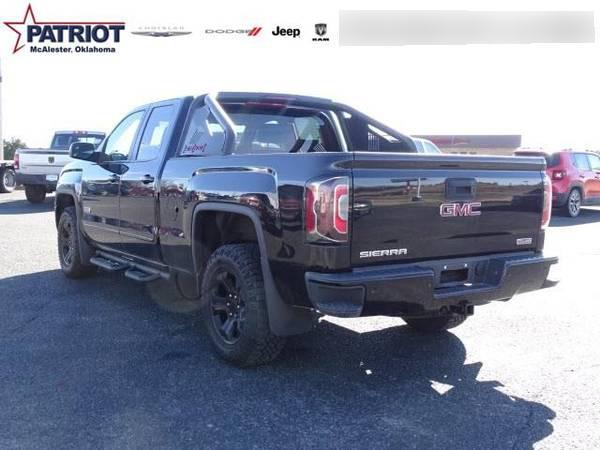Front_Fender: (54, 162, 86, 248)
Front_Left_Door: (80, 158, 121, 257)
Front_Left_Window: (92, 109, 145, 158)
Left_Taillight: (304, 171, 352, 246)
Rear_Bumper: (305, 249, 558, 316)
Rear_Fender: (156, 151, 354, 314)
Rear_Left_Door: (118, 158, 163, 269)
Rear_Left_Window: (130, 102, 182, 162)
Rear_Windshield: (167, 96, 360, 154)
Right_Taillight: (538, 171, 552, 230)
Roof: (86, 93, 189, 156)
Tailgate: (348, 153, 545, 273)
Wheel: (197, 235, 284, 361), (54, 205, 94, 277)
